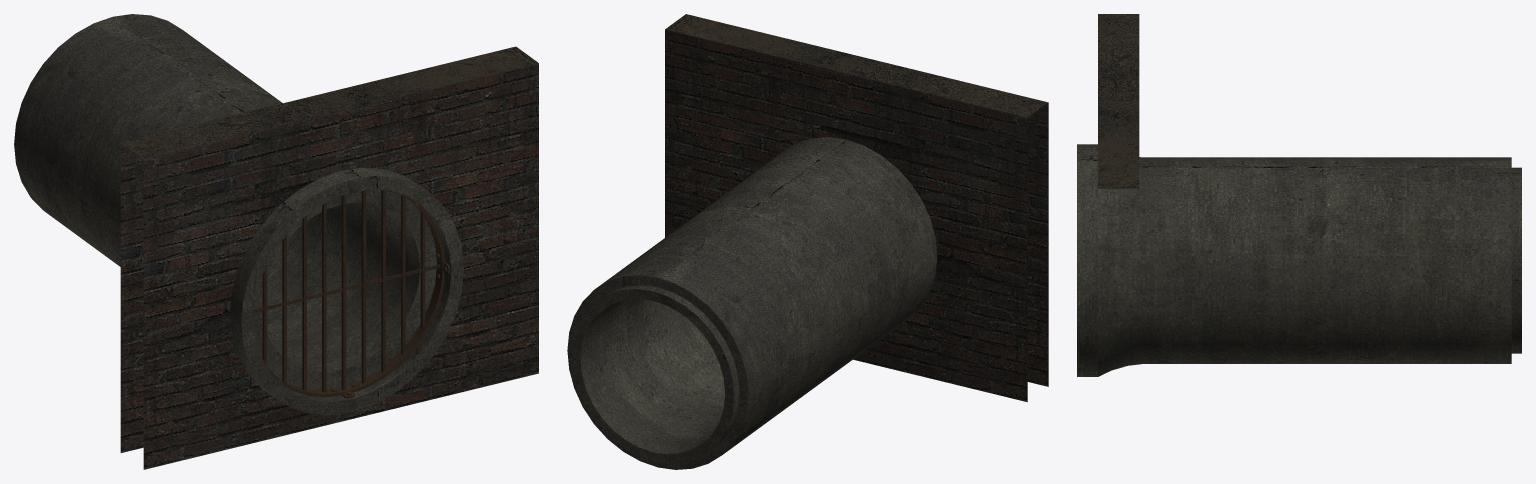
The model's file is wall_hs_1_hole_1.glb.
The picture shows the model from 3 angles, left to right: view 1: azimuth 30°, elevation 25°; view 2: azimuth 150°, elevation 25°; view 3: azimuth 270°, elevation 25°; orthographic projection. The views are drawn at different scales.
Visible parts, largest first — view 1: wall_hs_1_hole_1; view 2: wall_hs_1_hole_1; view 3: wall_hs_1_hole_1.
Part boxes in pixels (bbox=[...]): wall_hs_1_hole_1: bbox=[14, 14, 538, 469]; wall_hs_1_hole_1: bbox=[567, 14, 1048, 469]; wall_hs_1_hole_1: bbox=[1077, 14, 1521, 376].
Size of the model in its own units: 4 by 3 by 4.3.
4 materials, 4 textured.
